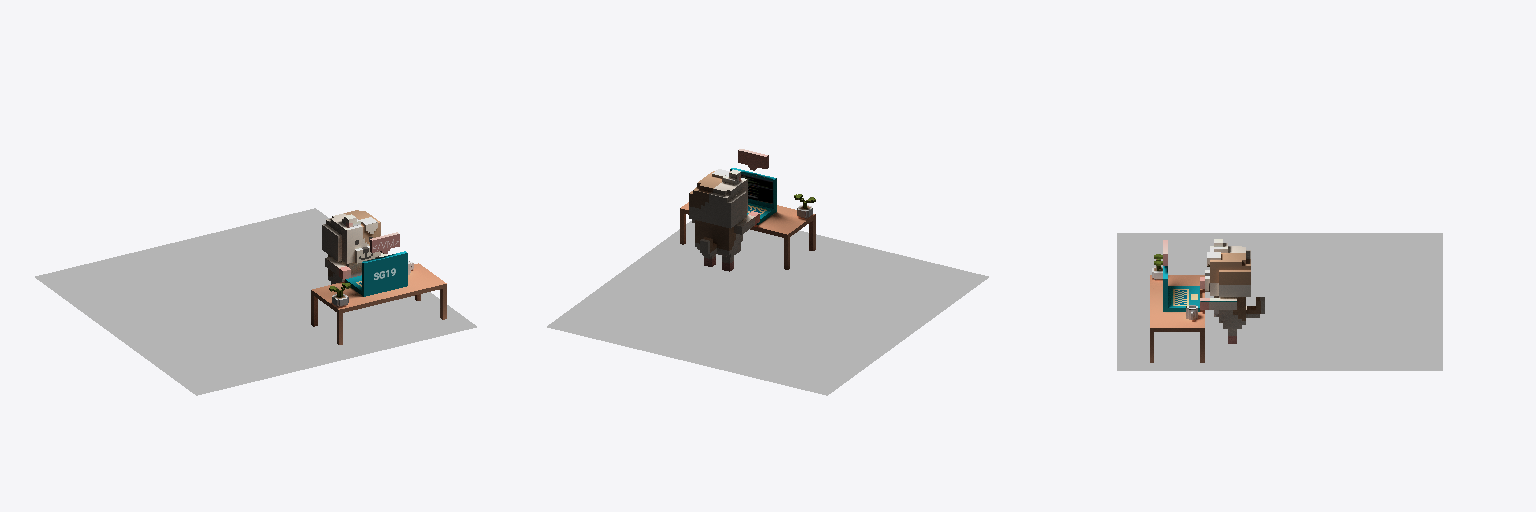
The picture shows the model from 3 angles: view 1: azimuth 30°, elevation 25°; view 2: azimuth 150°, elevation 25°; view 3: azimuth 270°, elevation 25°; orthographic projection.
Visible parts, largest first — view 1: Plane, main; view 2: Plane, main; view 3: Plane, main.
Part boxes in pixels (bbox=[...]): Plane: bbox=[35, 208, 476, 395]; main: bbox=[311, 210, 446, 344]; Plane: bbox=[547, 221, 988, 395]; main: bbox=[680, 149, 815, 271]; Plane: bbox=[1117, 233, 1442, 370]; main: bbox=[1150, 239, 1264, 362].
Size of the model in its own units: 14.1 by 4.4 by 14.1.
2 materials, 1 textured.